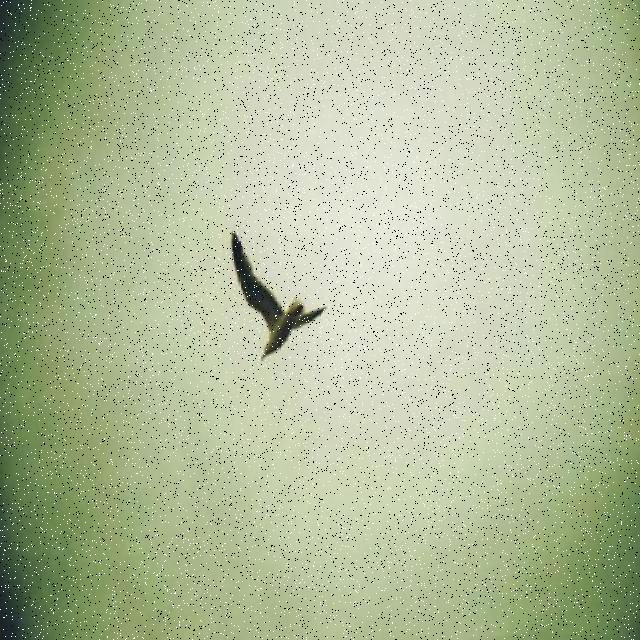bird: (231, 230, 326, 361)
